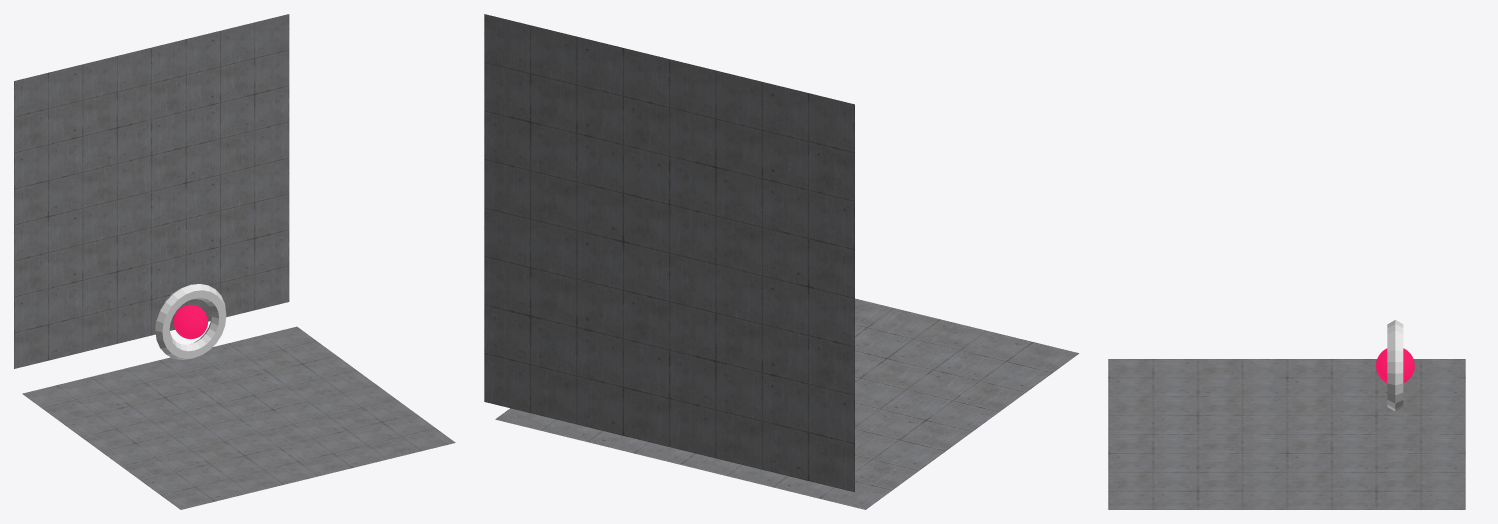
File: hariModel.gltf
The picture shows the model from 3 angles, left to right: view 1: azimuth 30°, elevation 25°; view 2: azimuth 150°, elevation 25°; view 3: azimuth 270°, elevation 25°; orthographic projection. The views are drawn at different scales.
Visible parts, largest first — view 1: Plane.001, Plane, Torus, Icosphere; view 2: Plane.001, Plane; view 3: Plane, Torus, Icosphere.
Boxes of the visible parts, box(x1,y1,x2,y2) form: Plane.001: box(14, 14, 289, 368); Plane: box(22, 326, 455, 509); Torus: box(155, 284, 226, 359); Icosphere: box(173, 304, 207, 339); Plane.001: box(484, 14, 854, 492); Plane: box(495, 298, 1078, 509); Plane: box(1108, 359, 1465, 509); Torus: box(1387, 320, 1403, 411); Icosphere: box(1376, 348, 1414, 383).
Bounding box in the file's own units: 9.69 × 10.32 × 10.17.
